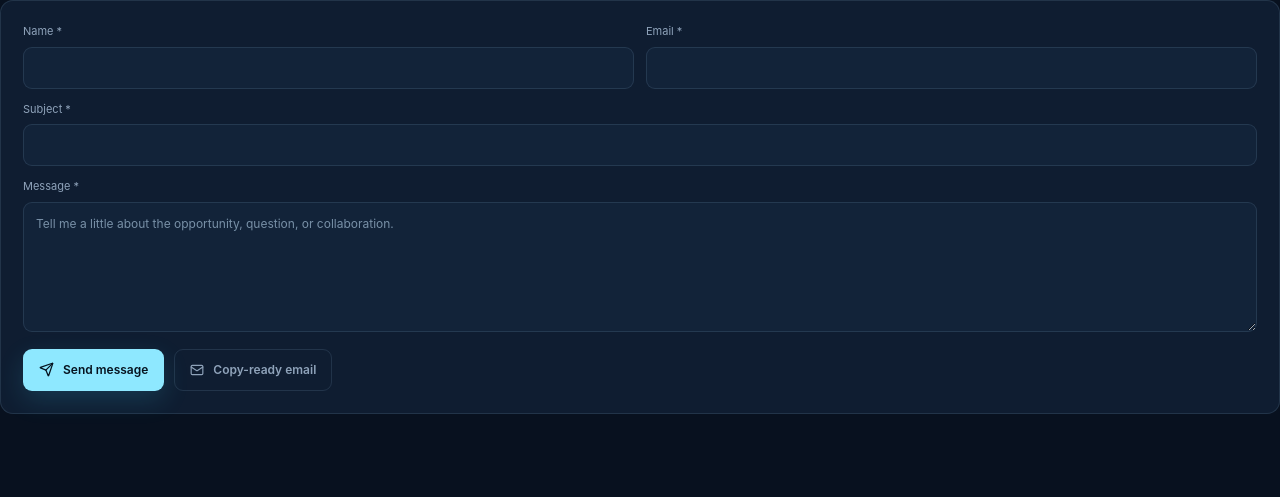
Test: ContactForm › exposes accessible required-field errors before submission
Click the button "Send message".
click(94, 370)  # box [23,348,164,390]
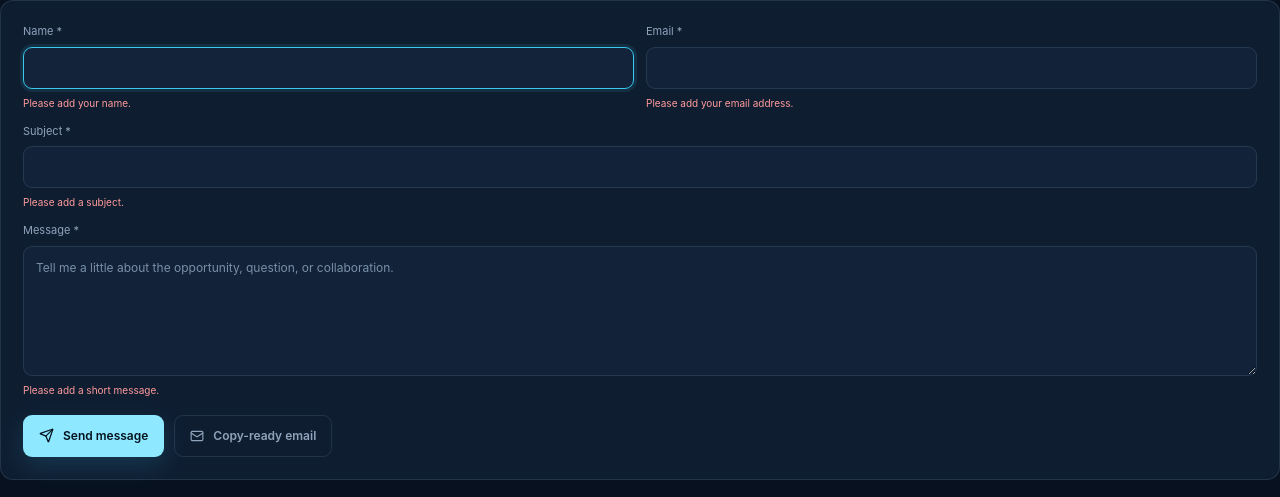
Expected: the text "Please add your name." is shown, [23,96,131,108]
Expected: the text "Please add your email address." is shown, [646,96,794,108]
Expected: the text "Please add a subject." is shown, [23,196,124,208]
